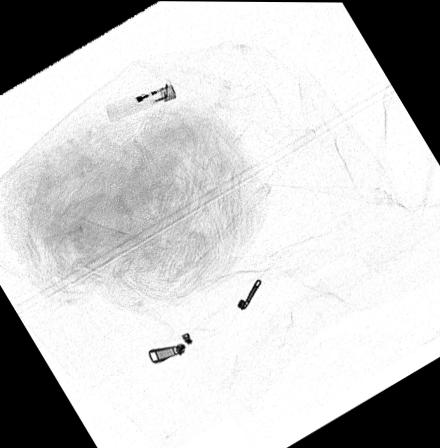Lighter: (104, 79, 176, 123)
